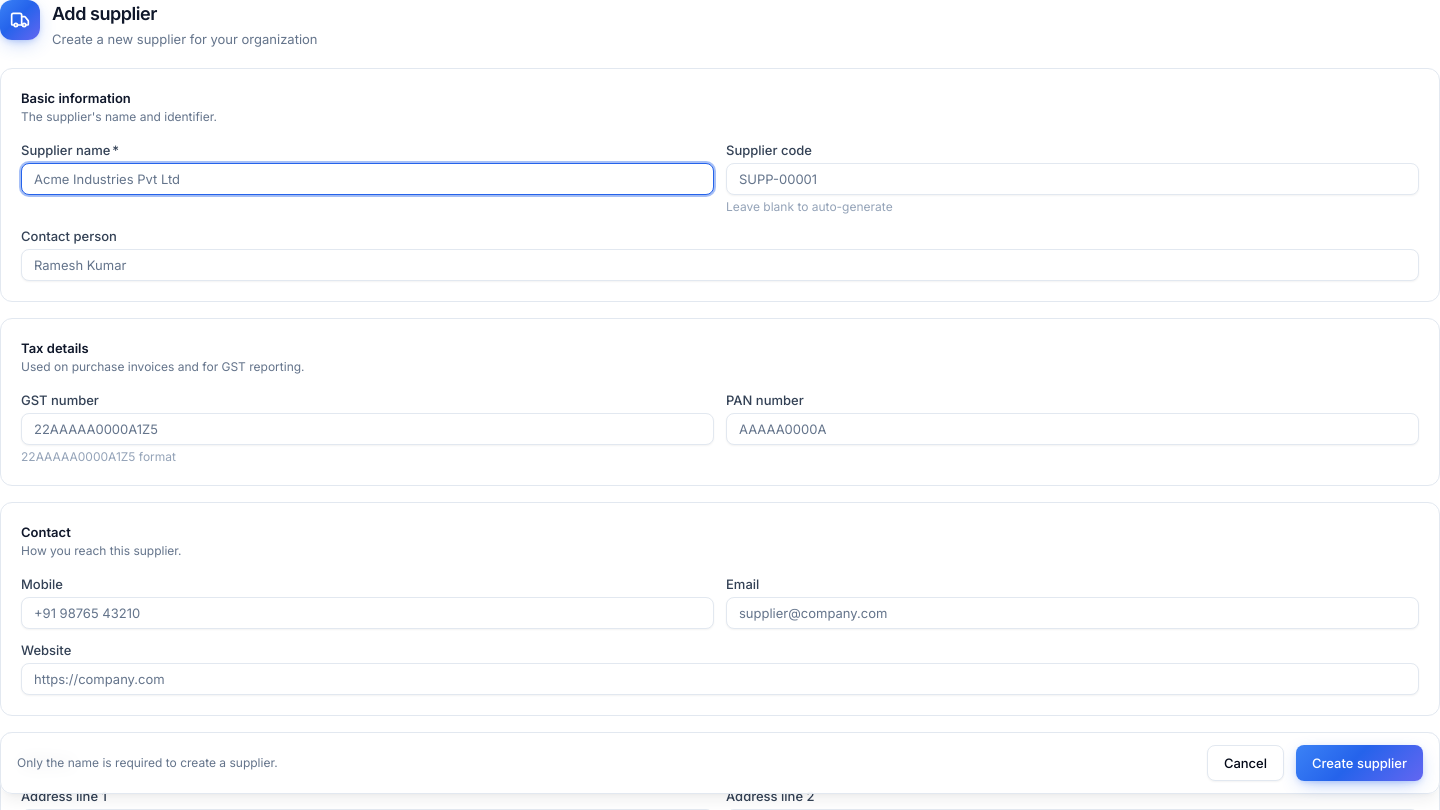
Test case: SupplierForm (create) › shows a validation error and does not submit when the name is too short
Type "A" into the field labelled "Supplier name*".
click(368, 179); type("A")  # box [21, 163, 714, 195]
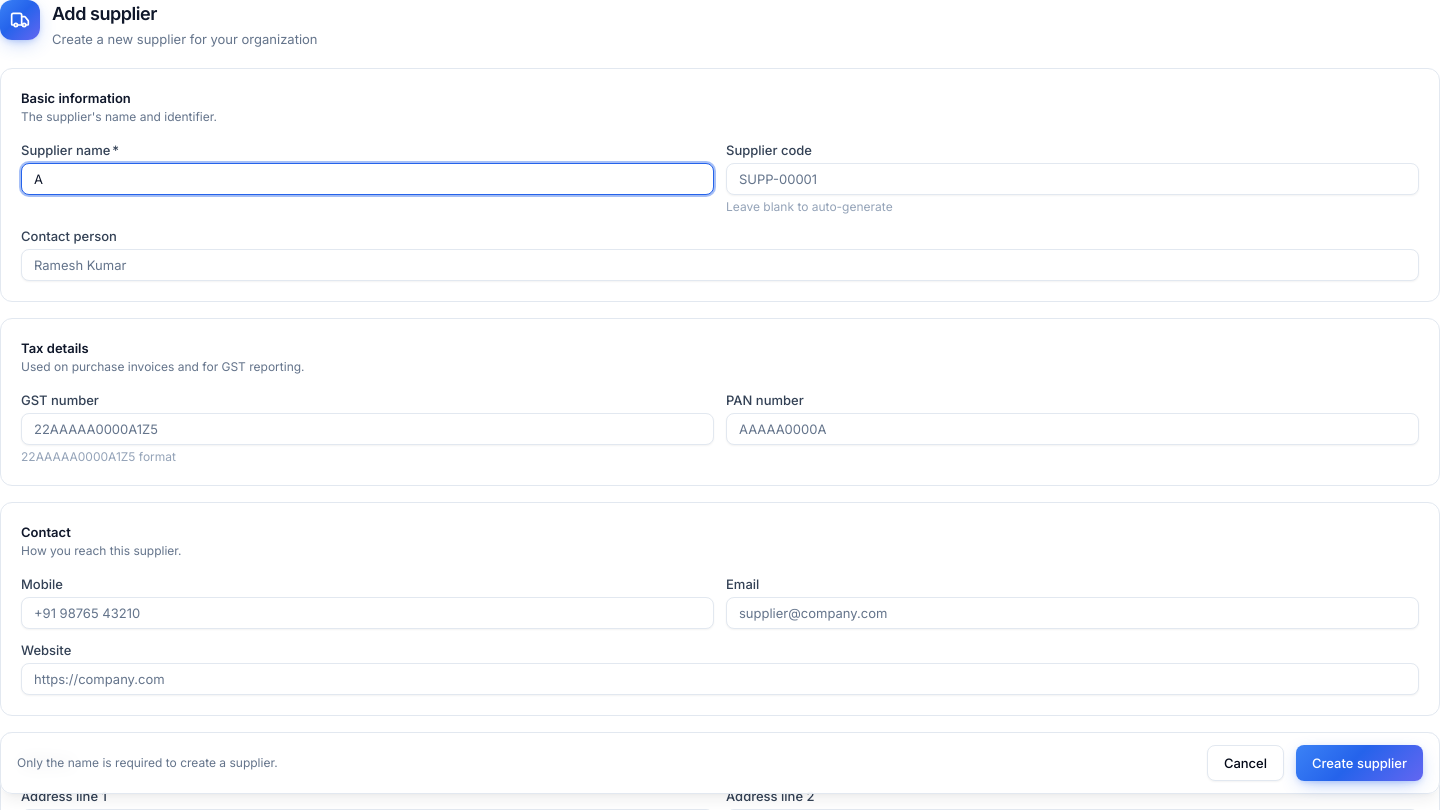
Click the button "Create supplier".
click(1360, 763)  # box [1296, 745, 1423, 781]
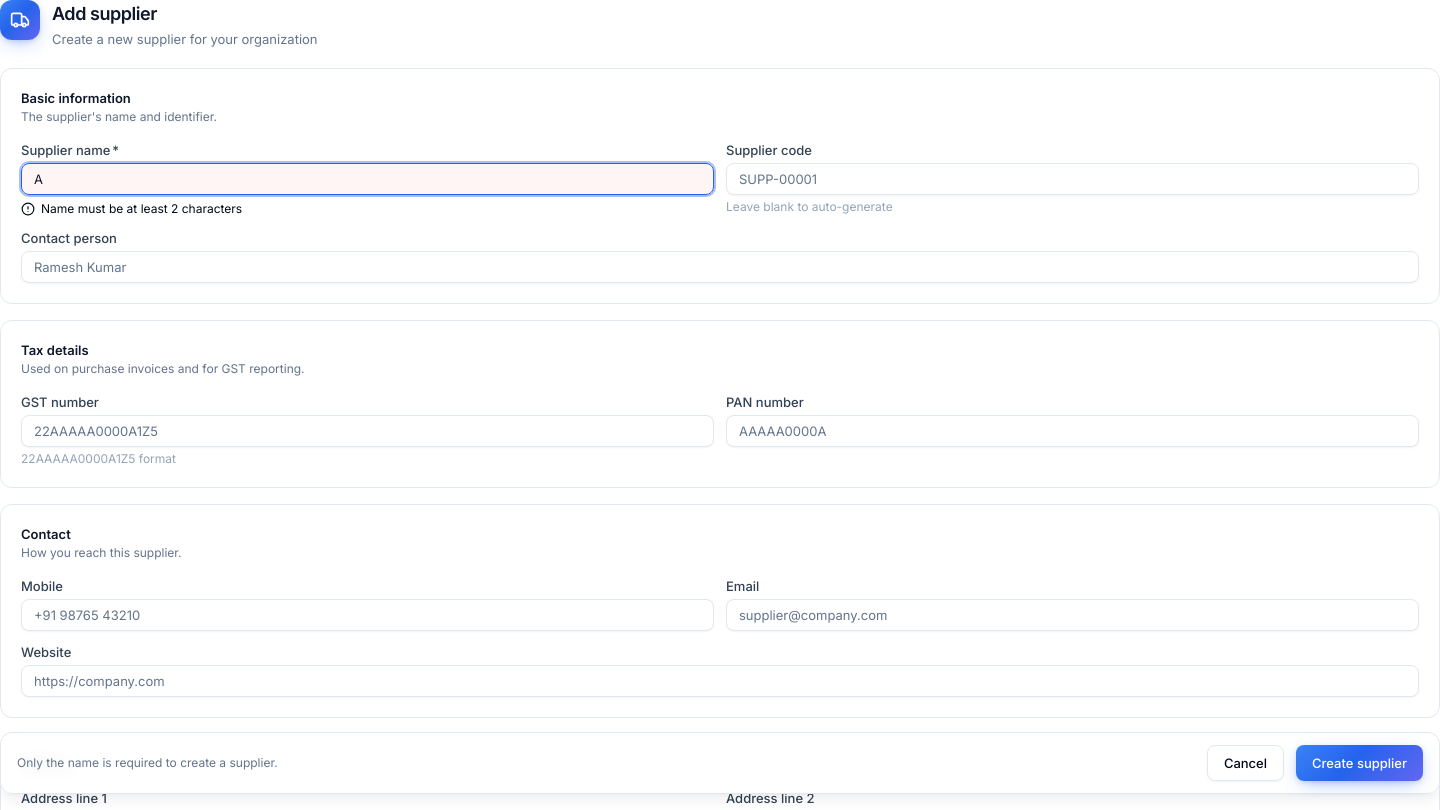
Check: the text "Name must be at least 2 characters" is shown, box [21, 201, 242, 216]
